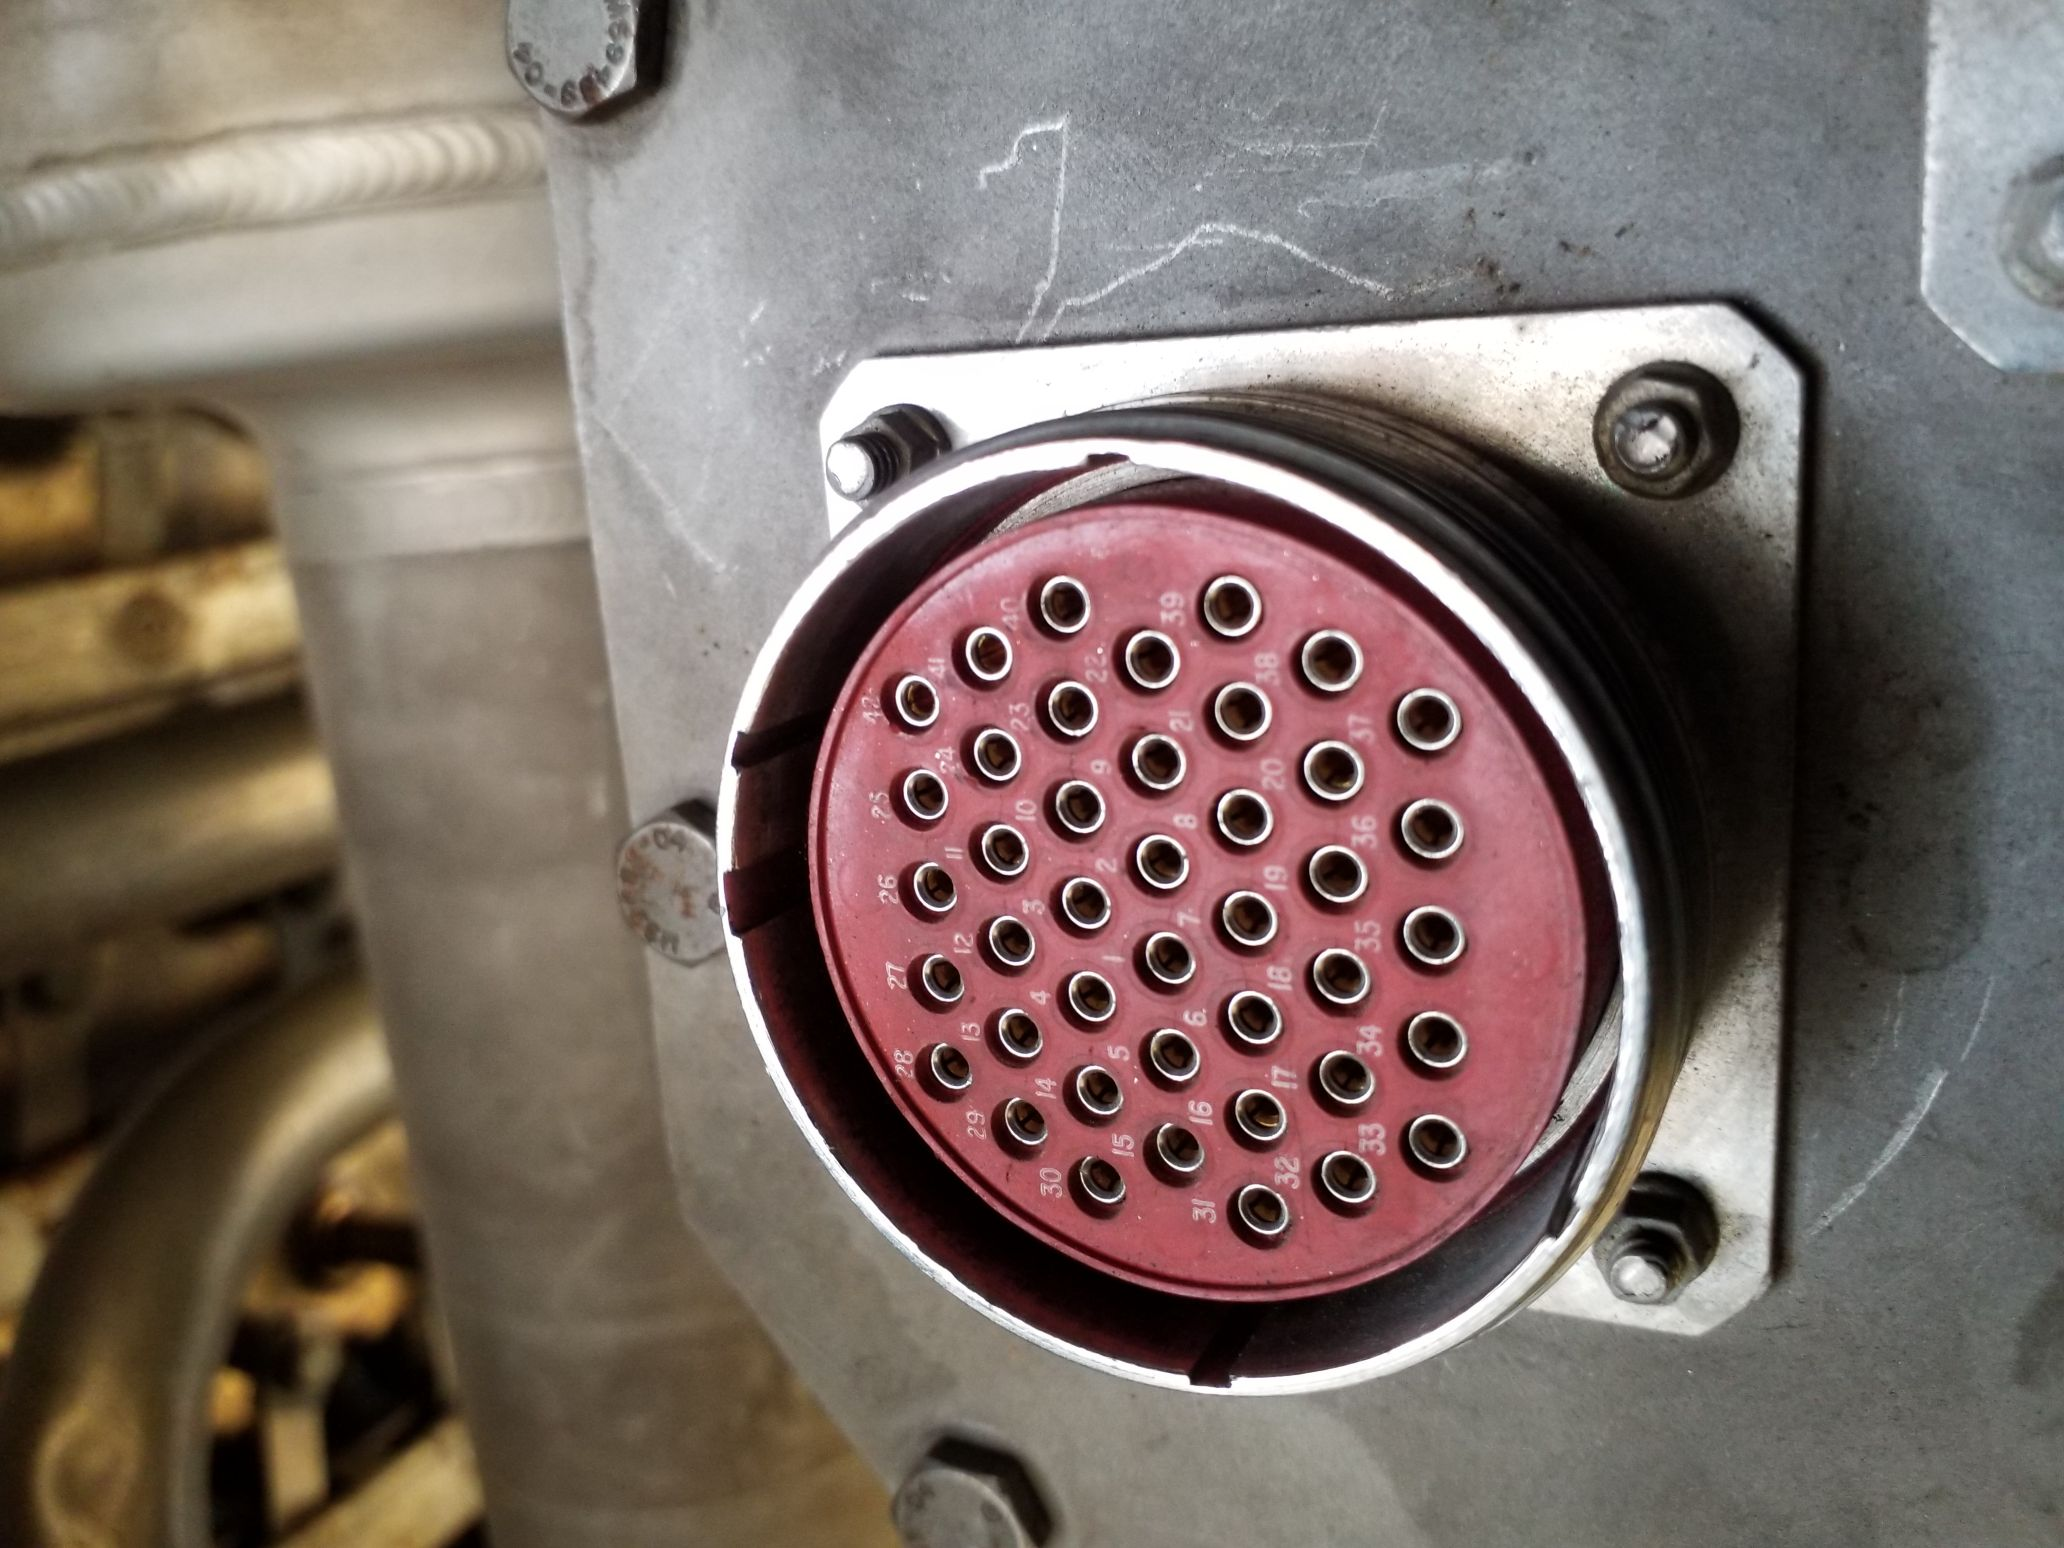inletnumbers: (710, 384, 1706, 1397)
